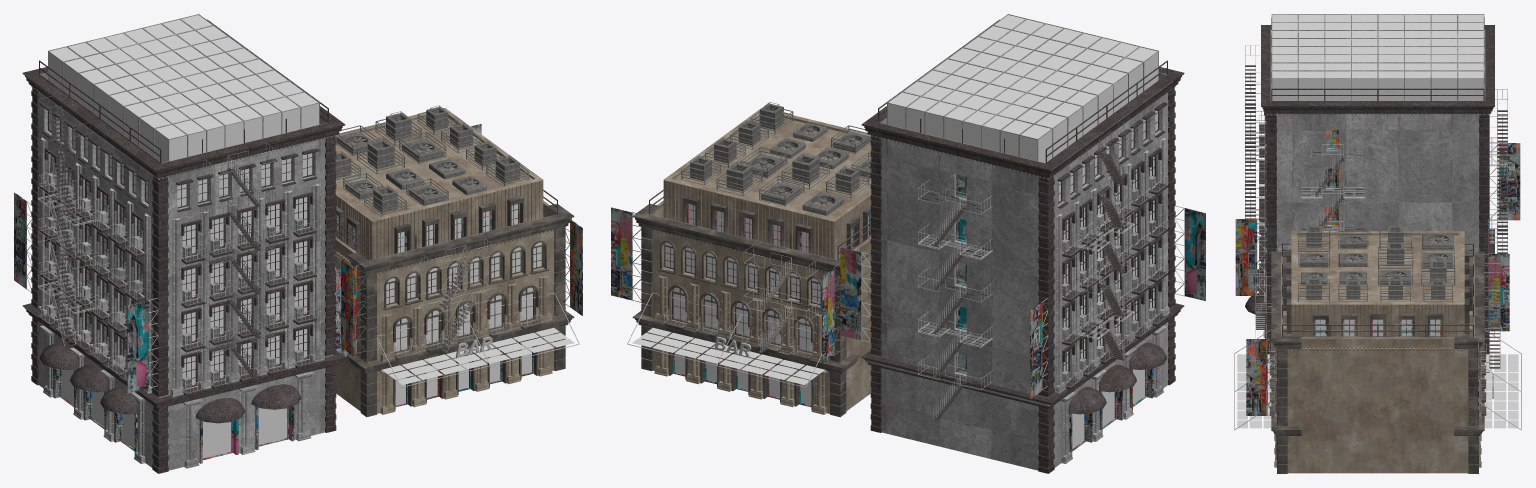
The model's file is nyc_00.gltf.
3 views of the same model, side by side, from view 1: azimuth 30°, elevation 25°; view 2: azimuth 150°, elevation 25°; view 3: azimuth 270°, elevation 25° (orthographic). The views are drawn at different scales.
Parts seen in each view (by area): view 1: nyc_00; view 2: nyc_00; view 3: nyc_00.
Boxes of the visible parts, bbox=[...] form: nyc_00: bbox=[14, 14, 582, 473]; nyc_00: bbox=[611, 14, 1205, 473]; nyc_00: bbox=[1234, 14, 1521, 473].
Size of the model in its own units: 45.24 by 30 by 27.06.
Materials: 13 (7 with a texture image).
